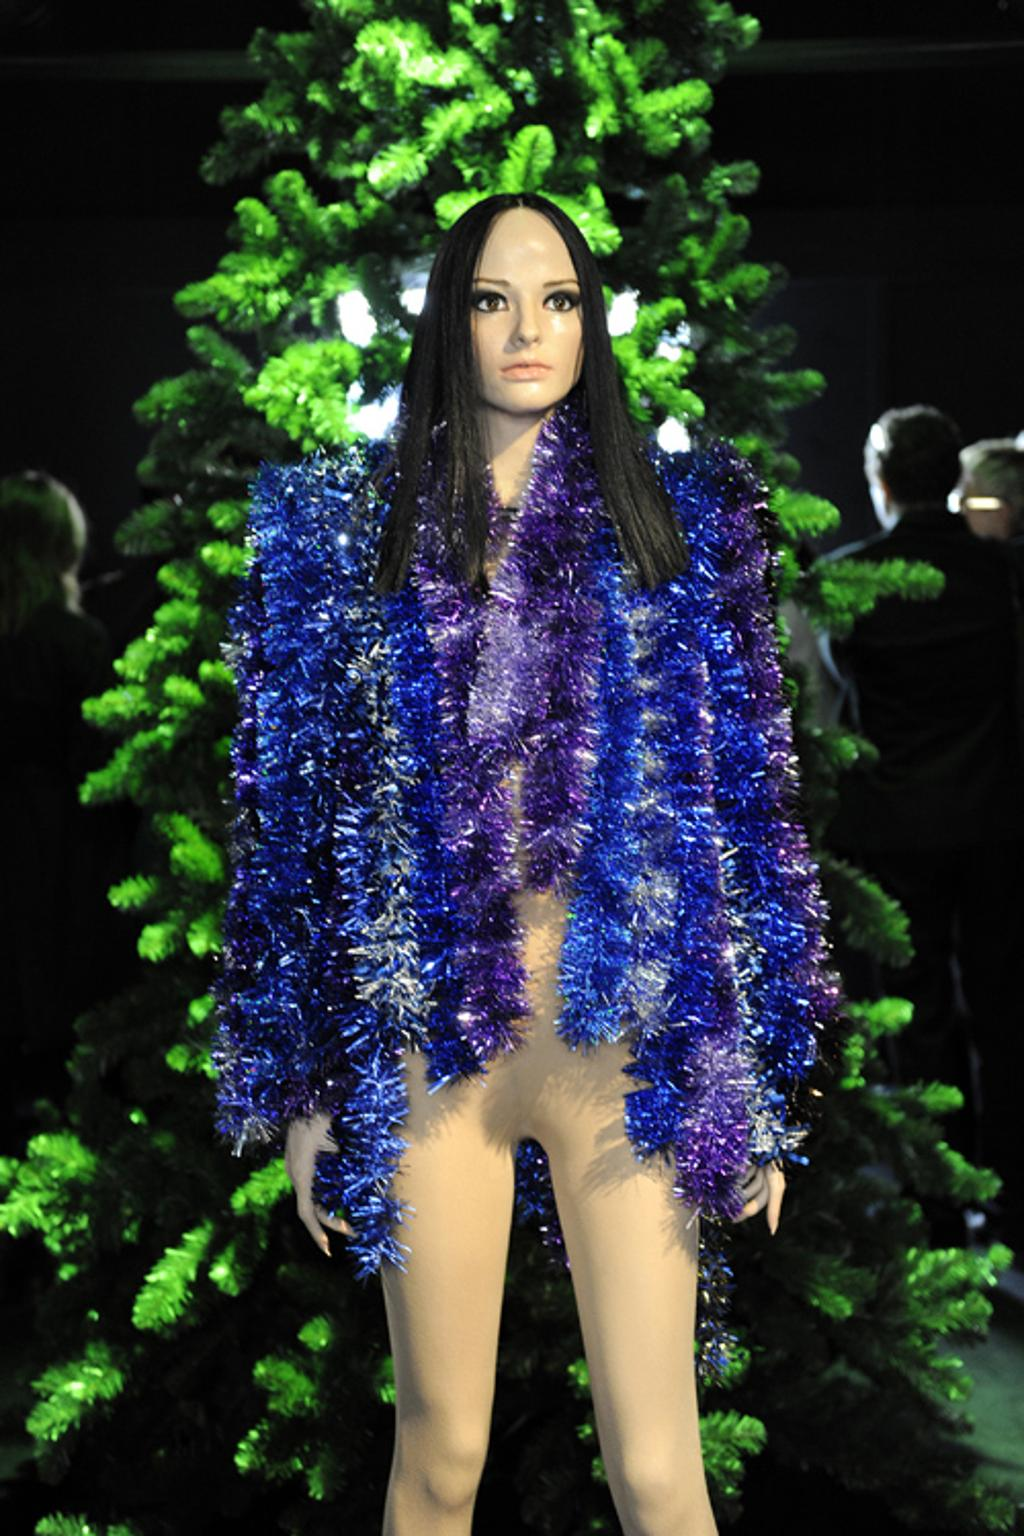face: (465, 204, 582, 414)
